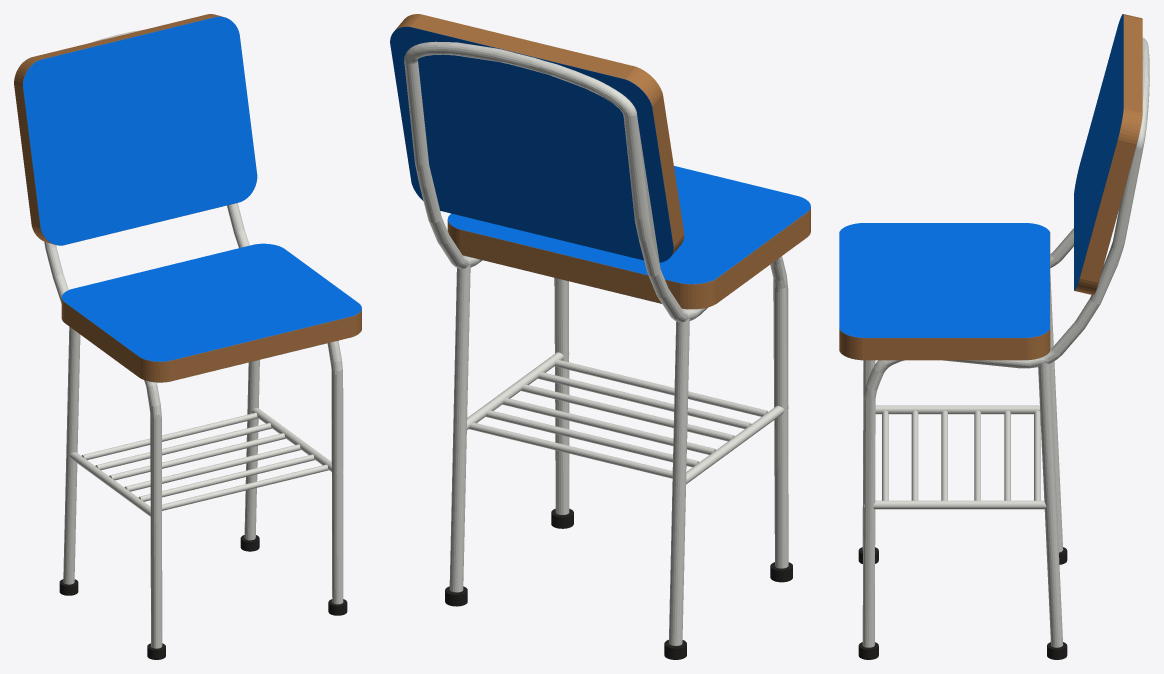
File: silla1 1.fbx
The picture shows the model from 3 angles, left to right: view 1: azimuth 30°, elevation 25°; view 2: azimuth 150°, elevation 25°; view 3: azimuth 270°, elevation 25°; orthographic projection. The views are drawn at different scales.
Parts seen in each view (by area): view 1: Silla; view 2: Silla; view 3: Silla.
Part boxes in pixels (x1=…): Silla: x1=14, y1=14, x2=361, y2=659; Silla: x1=390, y1=14, x2=810, y2=659; Silla: x1=839, y1=14, x2=1149, y2=659.
Size of the model in its own units: 165 by 365 by 188.
